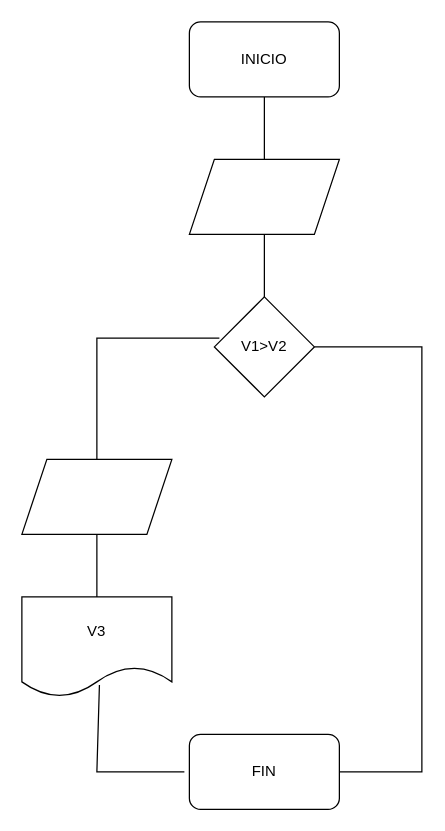
Image size: 445x831. Some labels were removed from this diagram. The shapes that lost their labels are listed below. From the top down, each one's centre as x and y in pixels, then its label:
pixel 263 196: INGRESAR V1,V2
pixel 96 496: V3= V1-V2
